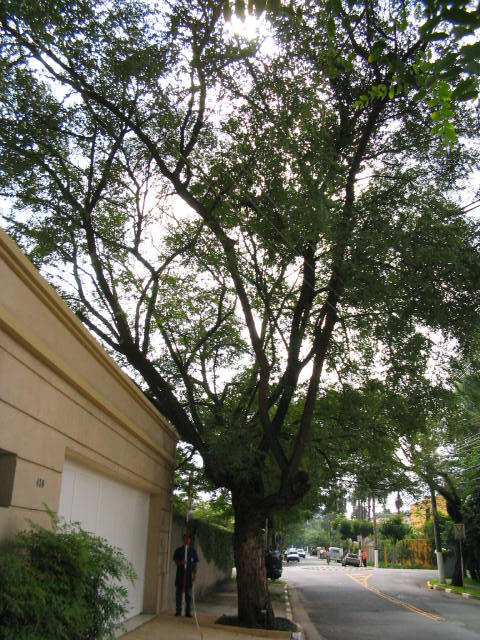stem: (220, 507, 291, 627)
stick: (176, 471, 196, 618)
tree: (5, 1, 463, 627)
